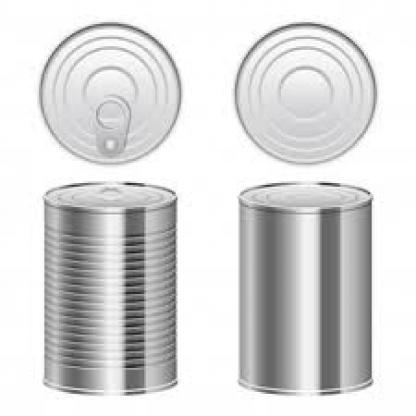METAL: (236, 181, 372, 396), (43, 179, 176, 396), (233, 20, 375, 164), (37, 20, 179, 163)
